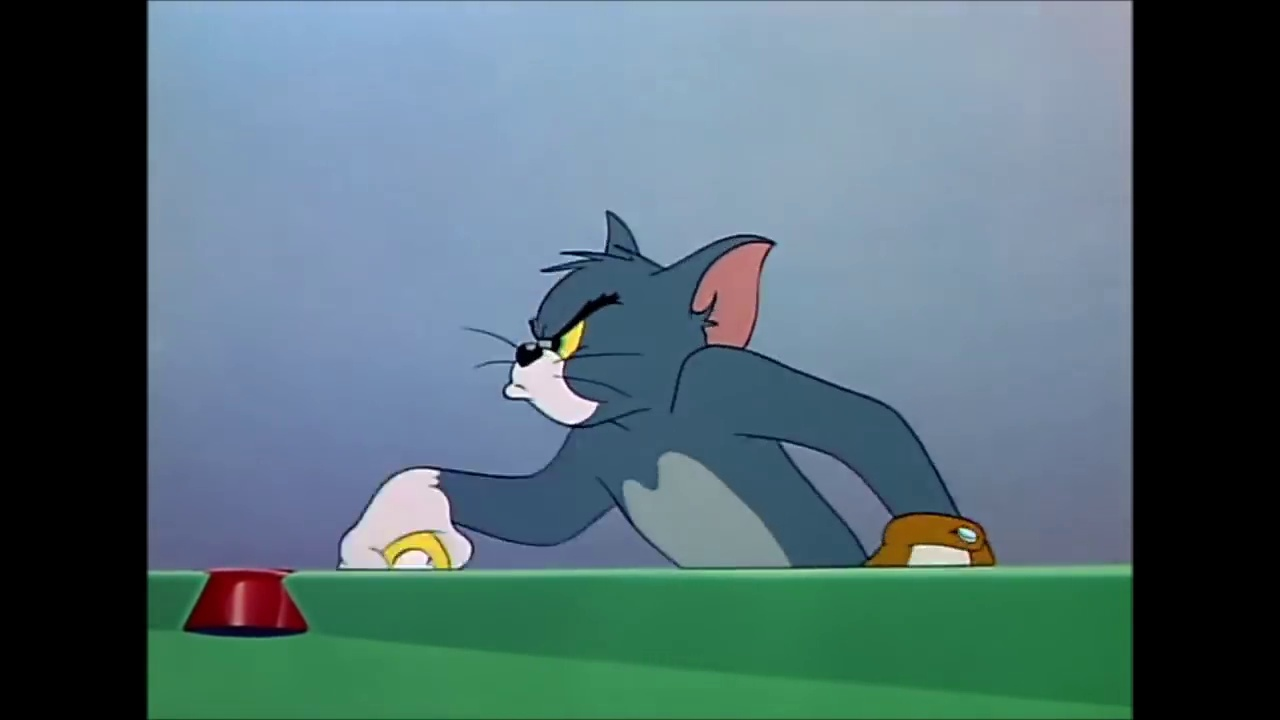angry: (505, 291, 627, 424)
